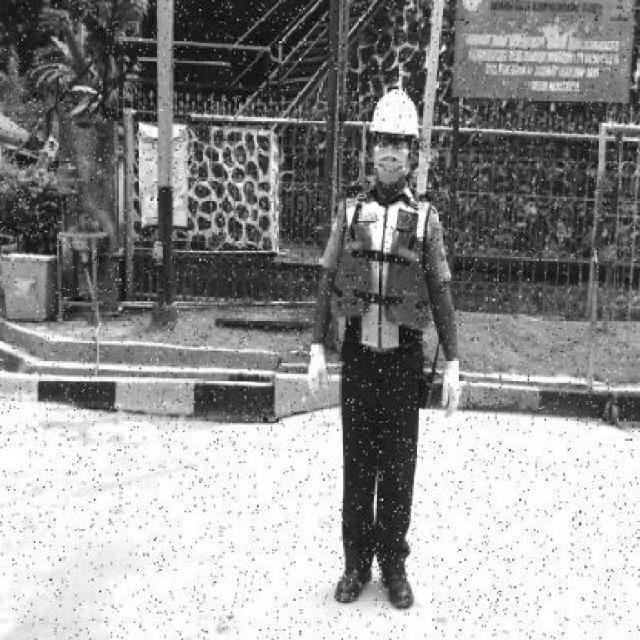helmet: (371, 87, 422, 135)
safety_vest: (324, 189, 435, 357)
